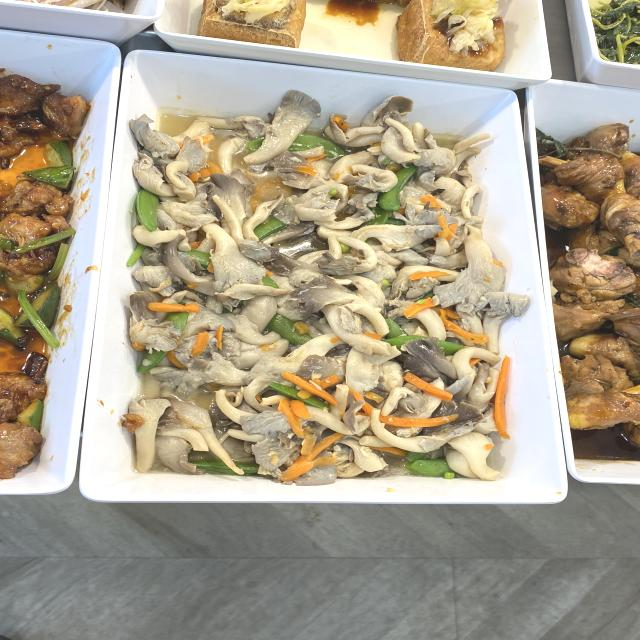Fushan-lettuceStir-fried Sweet Beans with Oyster Mushrooms: (165, 157, 463, 444)
